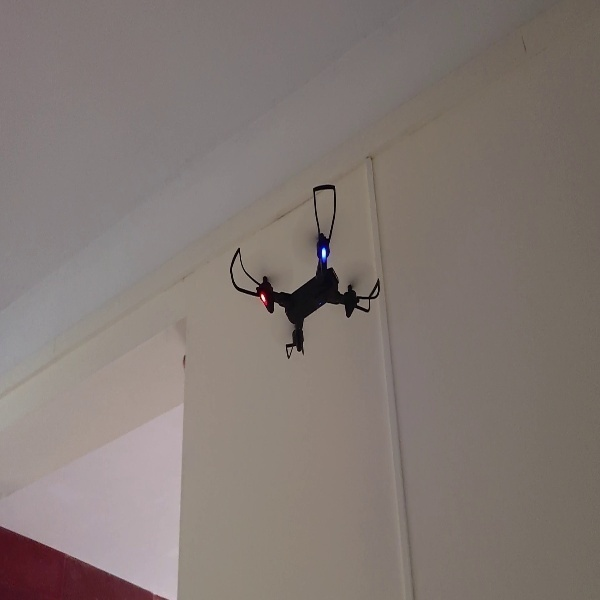drone: (228, 180, 382, 361)
